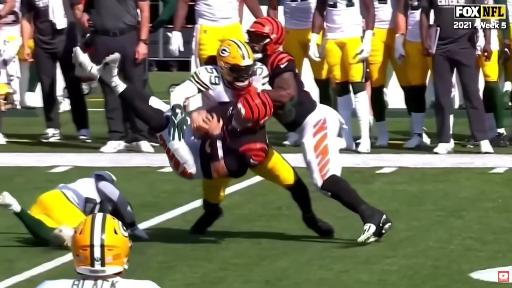Helmet: (72, 213, 131, 275), (217, 40, 254, 88), (247, 17, 285, 54), (237, 91, 273, 127), (0, 84, 14, 111), (91, 171, 116, 184)
Jersey: (207, 102, 268, 178), (260, 51, 317, 131), (190, 66, 234, 109), (57, 178, 100, 215), (325, 0, 362, 39), (195, 0, 239, 26), (37, 278, 159, 287), (284, 0, 316, 29), (0, 0, 21, 36), (406, 0, 421, 42), (374, 0, 394, 28), (491, 30, 499, 50), (507, 0, 511, 11)
Player: (100, 55, 334, 237), (248, 18, 391, 242), (0, 171, 147, 247), (310, 0, 373, 152), (37, 213, 159, 287), (366, 0, 405, 146), (395, 0, 431, 148), (192, 0, 262, 71), (478, 25, 509, 146), (283, 0, 316, 75), (0, 83, 13, 144)
